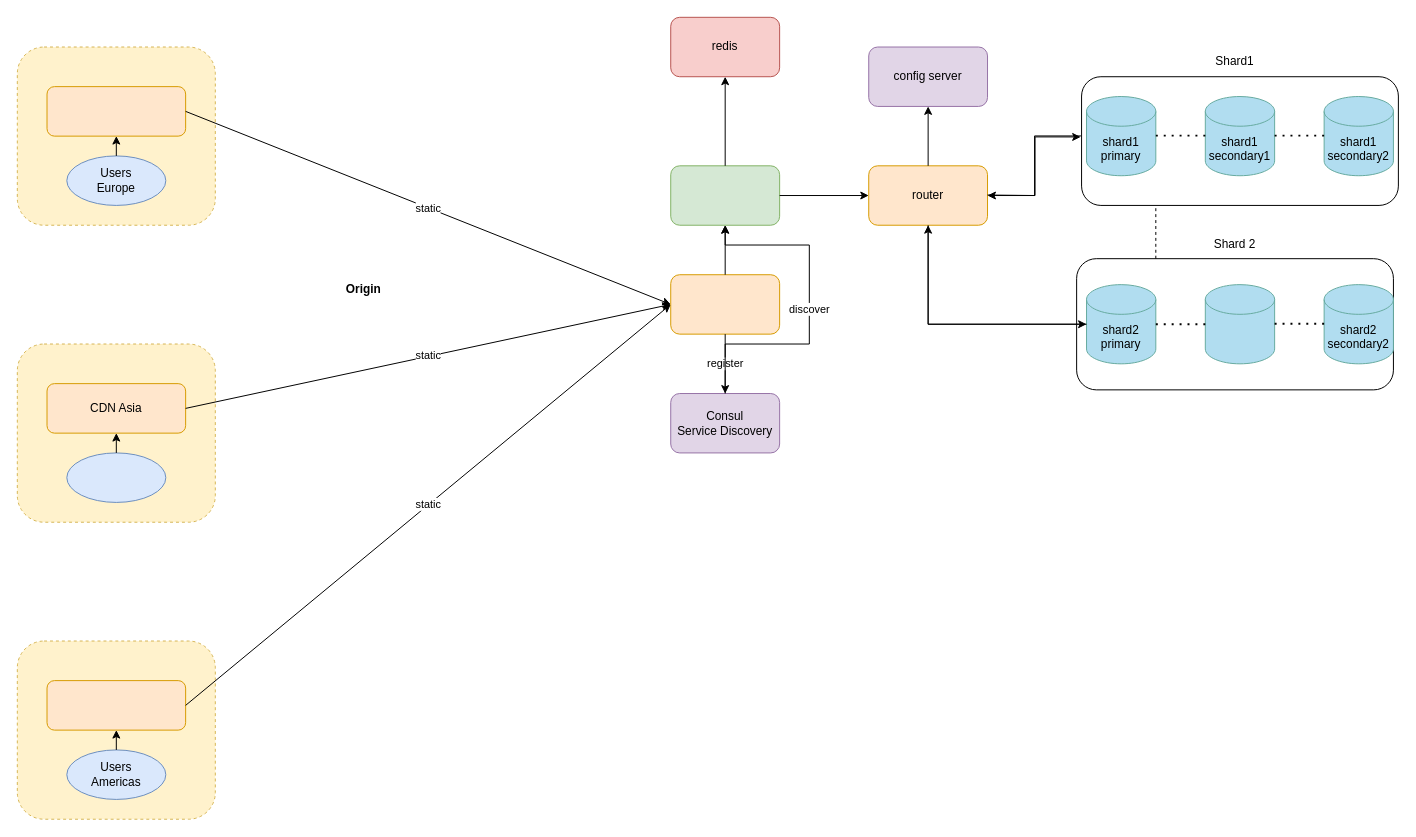
The diagram is 1416 pixels wide and 837 high, and some of its shapes have lost their labels. Here are the shapes that lost their labels. From the top down, the centre of each, then its label:
At [116,111]: "CDN Europe".
At [725,195]: "pymongo-api".
At [725,304]: "API Gateway".
At [1239,324]: "shard2 secondary1".
At [116,477]: "Users Asia".
At [116,705]: "CDN Americas".
